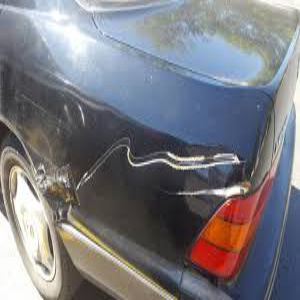bumper_scratch: (60, 99, 231, 210)
